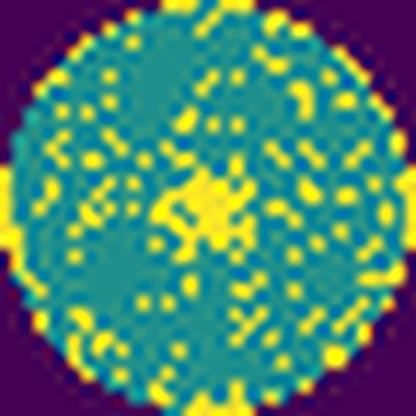Center: (150, 166, 261, 261)
